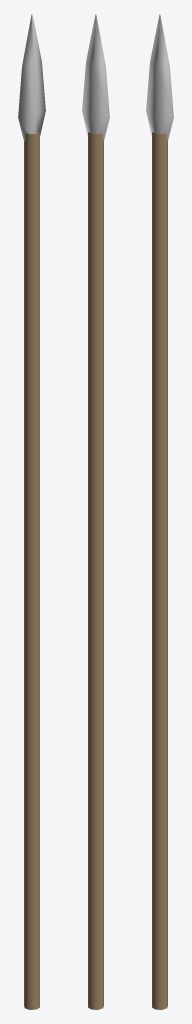
Rendered from Spear.glb.
The picture shows the model from 3 angles, left to right: view 1: azimuth 30°, elevation 25°; view 2: azimuth 150°, elevation 25°; view 3: azimuth 330°, elevation 25°; orthographic projection.
Parts seen in each view (by area): view 1: Spear; view 2: Spear; view 3: Spear.
Boxes of the visible parts, x1,y1,x2,y2 form: Spear: (18,14,45,1009); Spear: (82,14,109,1009); Spear: (146,14,173,1009).
Bounding box in the file's own units: 0.07 × 2.38 × 0.036.
